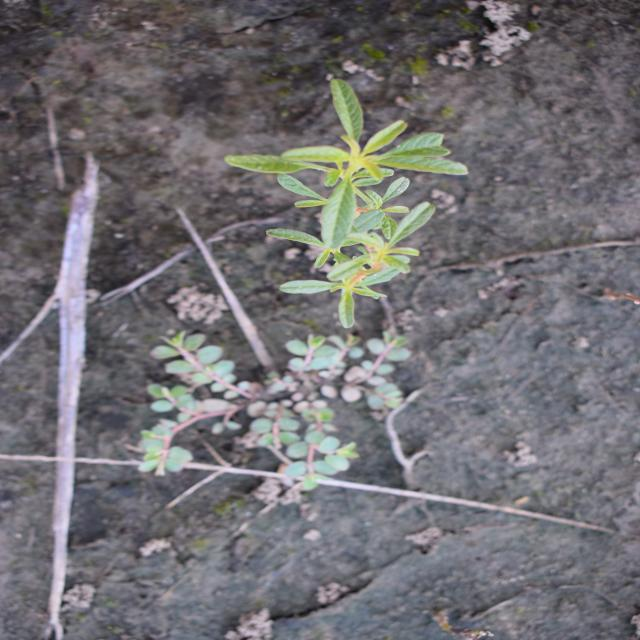SpottedSpurge: (136, 328, 416, 493)
Waterhemp: (220, 77, 474, 330)
